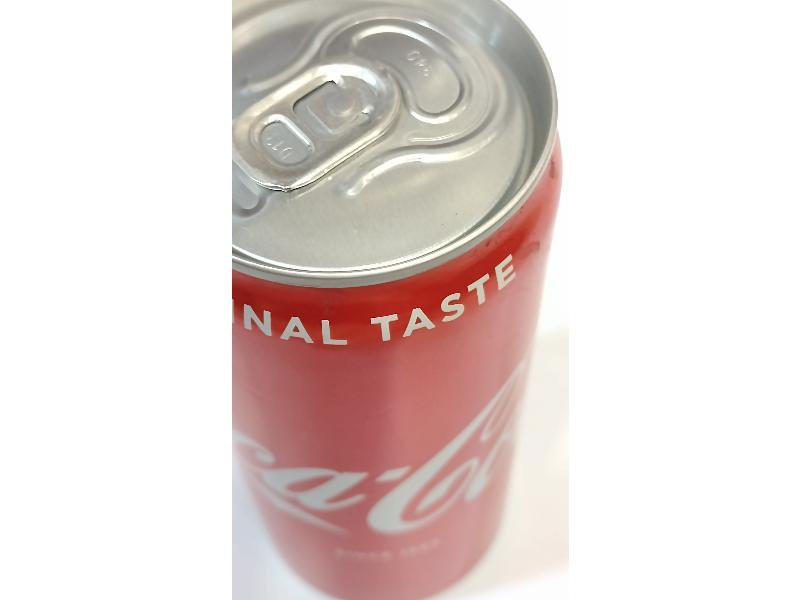can: (233, 2, 568, 595)
